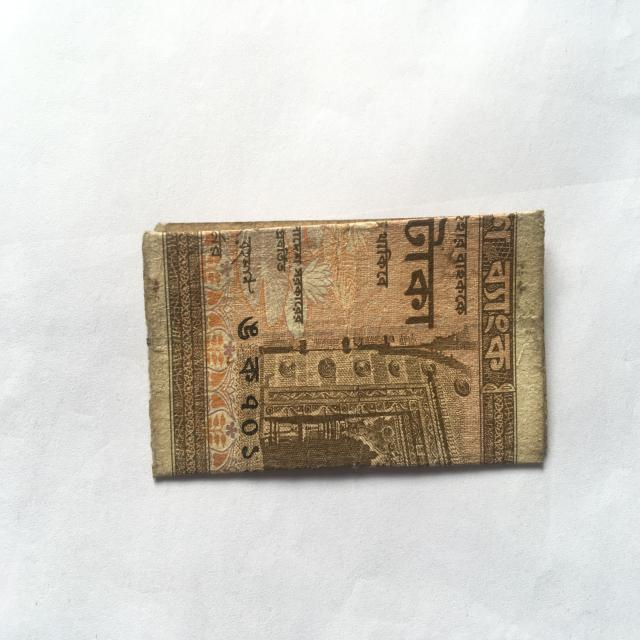Taka: (136, 214, 562, 478)
